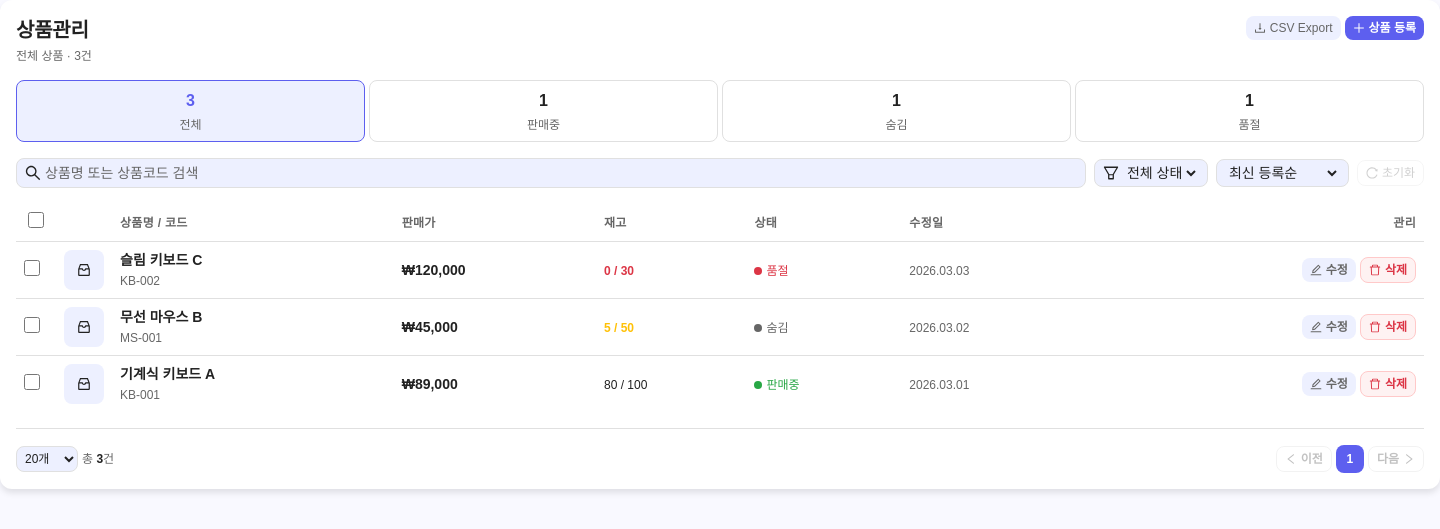
Test case: 체크박스 선택 › 선택 취소 버튼 클릭 시 선택이 초기화된다
Click the checkbox named "현재 페이지 전체 선택". click: (36,220)
box: top-left (28, 212), bottom-right (44, 228)
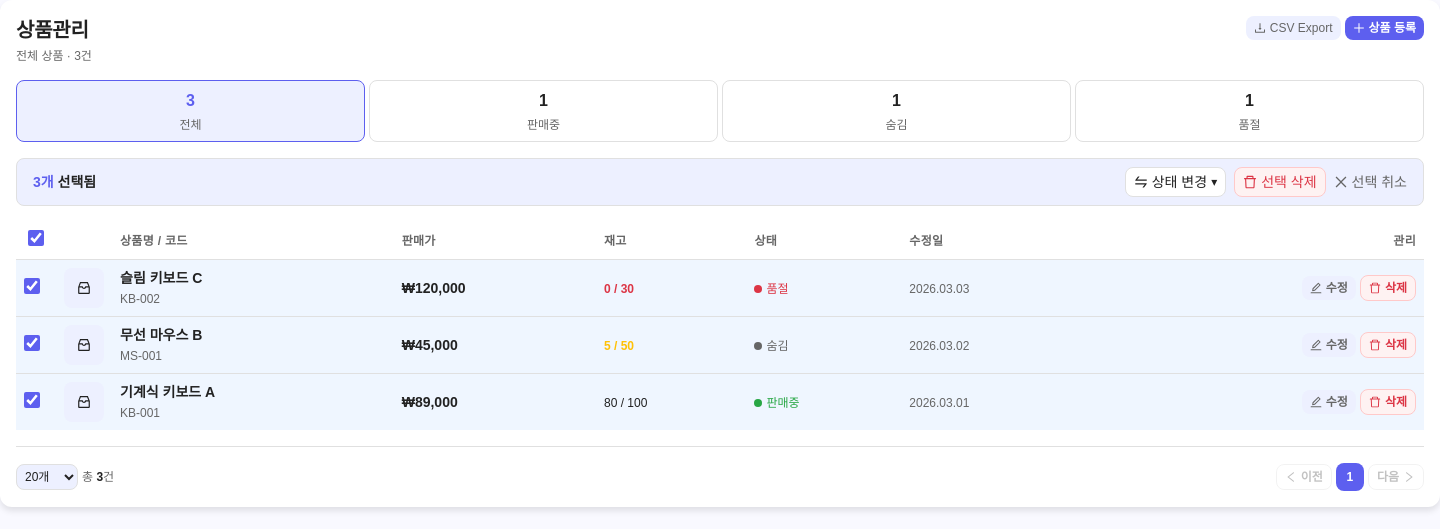
Check: the text "3개" is shown, box top-left (33, 174), bottom-right (54, 190)
Click the button "선택 취소". click: (1370,182)
box: top-left (1334, 172), bottom-right (1407, 192)
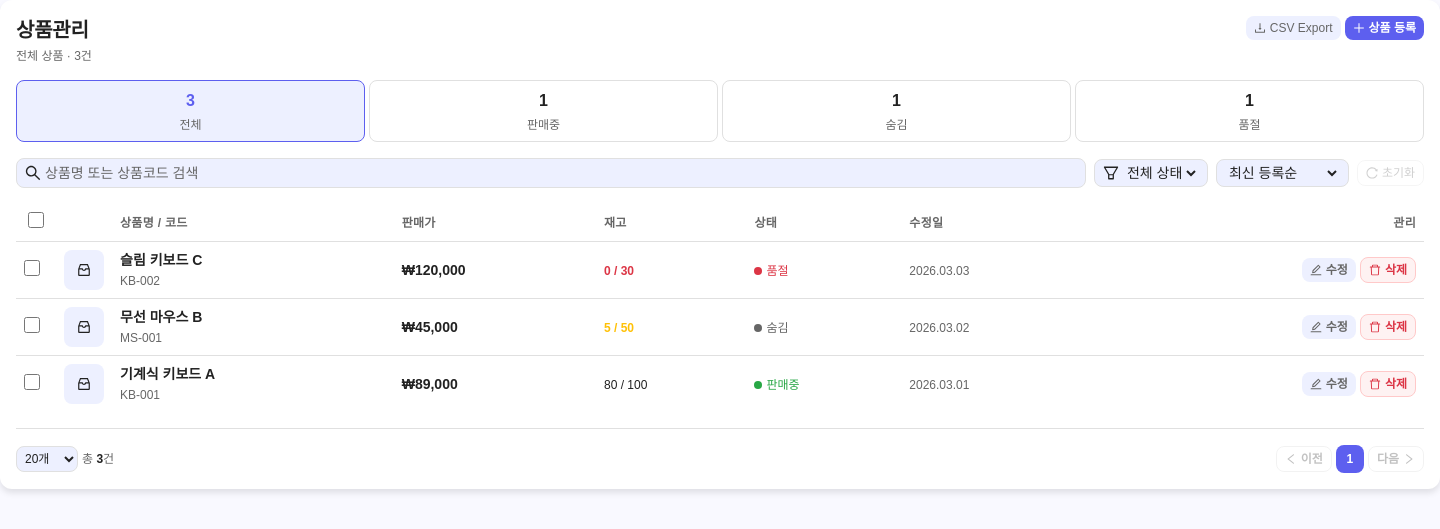
Check: the text "3개" is gone
